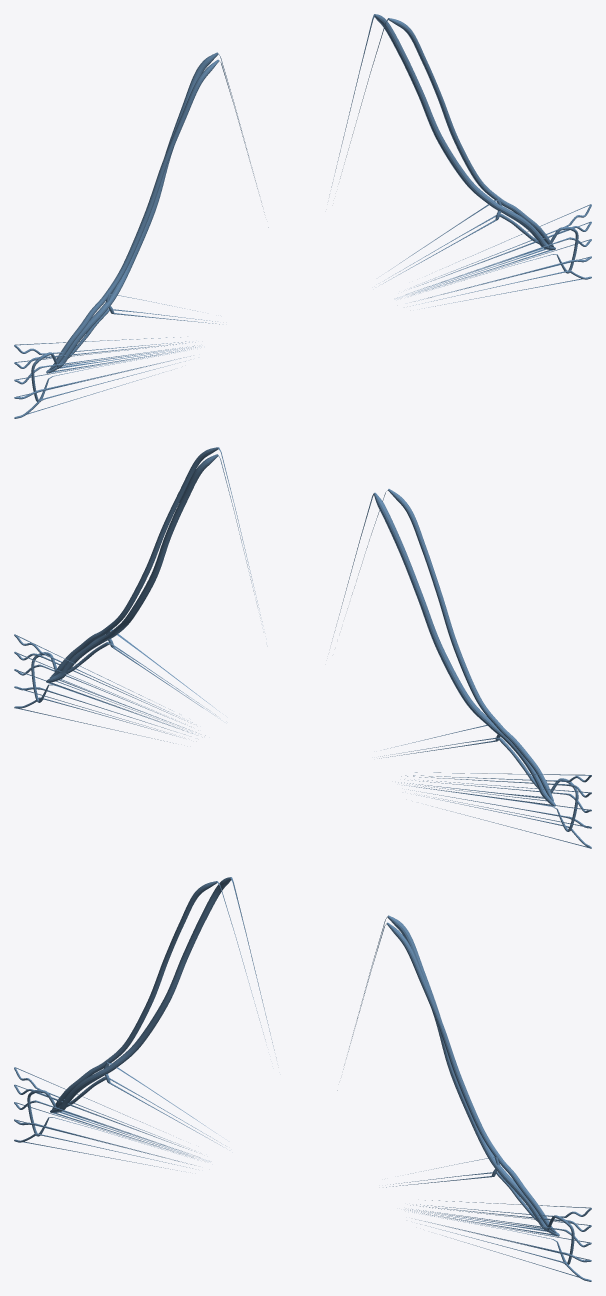
File: arm_veins.glb
3 renders of one model, top to bottom at view 1: azimuth 30°, elevation 25°; view 2: azimuth 150°, elevation 25°; view 3: azimuth 330°, elevation 25°, orthographic.
Parts seen in each view (by area): view 1: arm_veins; view 2: arm_veins; view 3: arm_veins.
Part boxes in pixels (left/top/right/bottom): arm_veins: left=14, top=14, right=591, bottom=418; arm_veins: left=14, top=447, right=591, bottom=848; arm_veins: left=14, top=877, right=591, bottom=1281.
Size of the model in its own units: 1.03 by 0.5285 by 0.0484.
